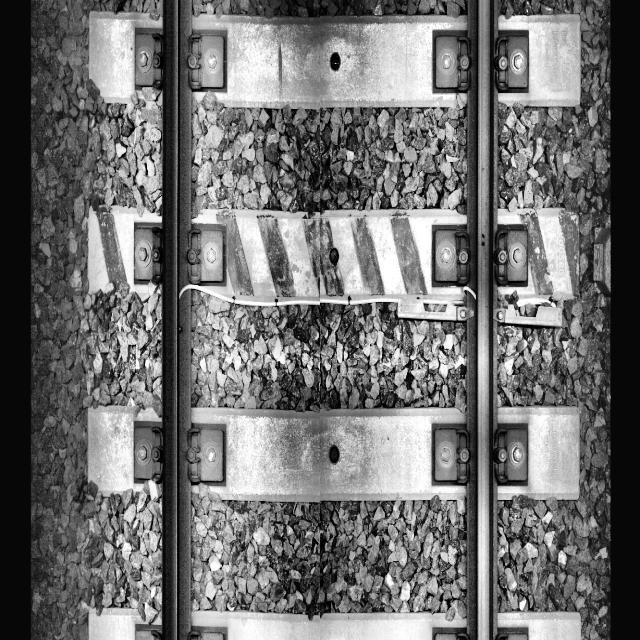Clips: (185, 212, 228, 290), (491, 219, 532, 294), (493, 21, 533, 97), (430, 21, 471, 95), (185, 421, 229, 489), (189, 24, 229, 98), (430, 416, 472, 485), (489, 419, 532, 486), (430, 216, 471, 286), (132, 18, 170, 92), (130, 218, 168, 288), (133, 416, 171, 483), (188, 620, 229, 640), (134, 615, 164, 640), (492, 621, 530, 640), (431, 622, 470, 640)
Sleepers: (90, 197, 582, 317), (86, 2, 586, 118), (86, 401, 584, 507), (88, 602, 587, 640)
